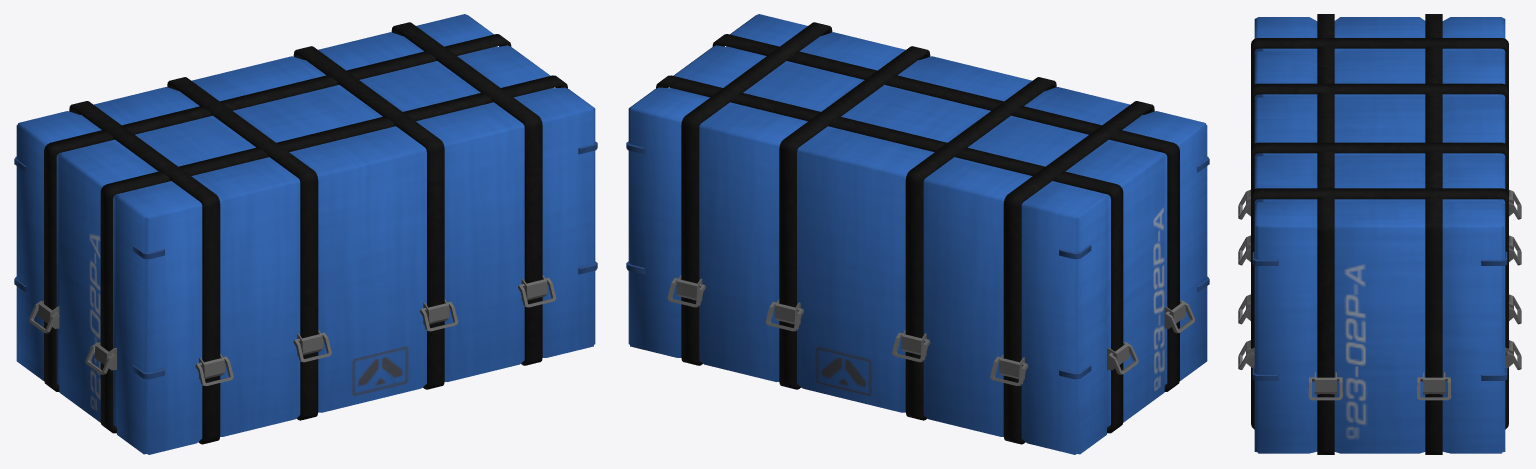
Rendered from Prop_Crate_Tarp_Large.gltf.
3 views of the same model, side by side, from view 1: azimuth 30°, elevation 25°; view 2: azimuth 150°, elevation 25°; view 3: azimuth 270°, elevation 25° (orthographic). The views are drawn at different scales.
Parts seen in each view (by area): view 1: Prop_Crate_Tarp_Large; view 2: Prop_Crate_Tarp_Large; view 3: Prop_Crate_Tarp_Large.
Part boxes in pixels (x1,y1,x2,y2): Prop_Crate_Tarp_Large: [14, 14, 597, 454]; Prop_Crate_Tarp_Large: [626, 14, 1209, 454]; Prop_Crate_Tarp_Large: [1238, 14, 1521, 454].
Bounding box in the file's own units: 3.22 × 1.57 × 1.72.
1 material, 1 textured.
